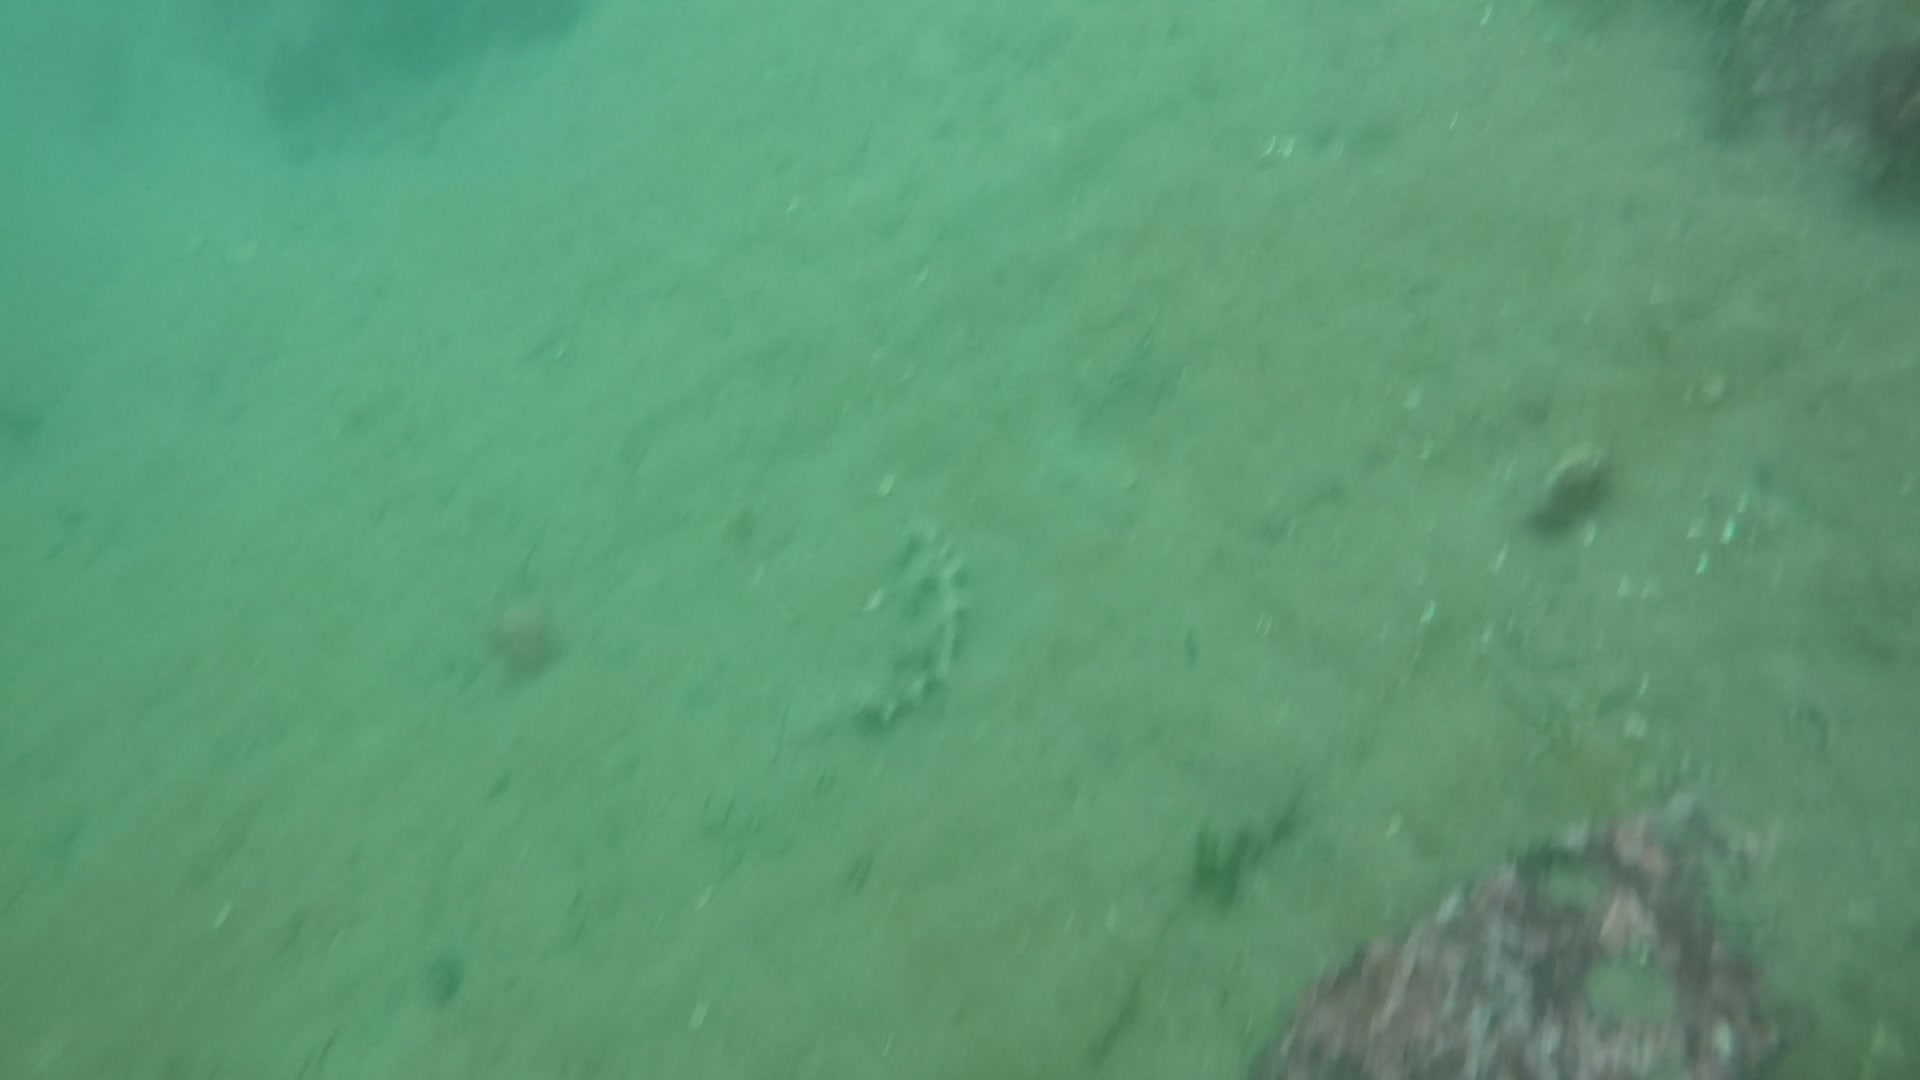holothurian: (851, 516, 975, 725)
